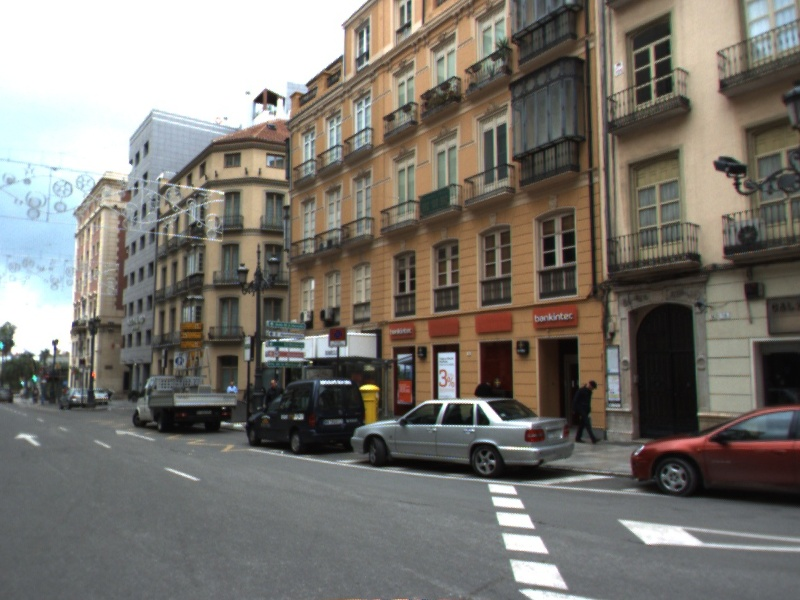STRAIGHT: (113, 427, 159, 443), (12, 430, 45, 448)
